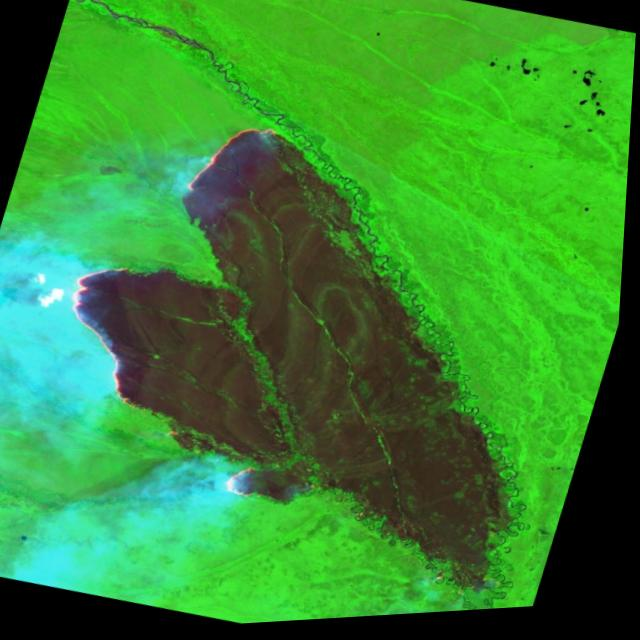fire: (37, 246, 190, 416), (171, 102, 290, 224), (213, 451, 276, 513)
